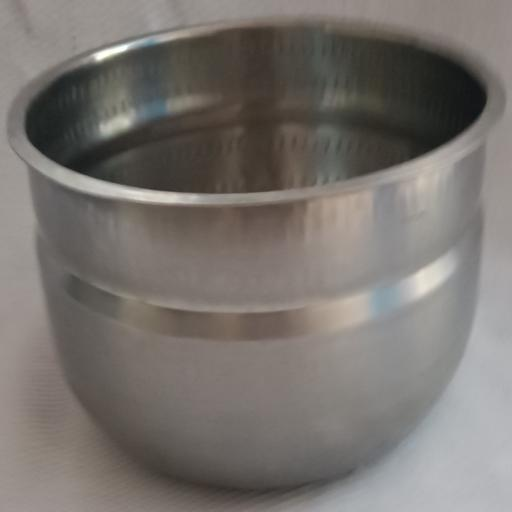vessel: (8, 20, 504, 488)
